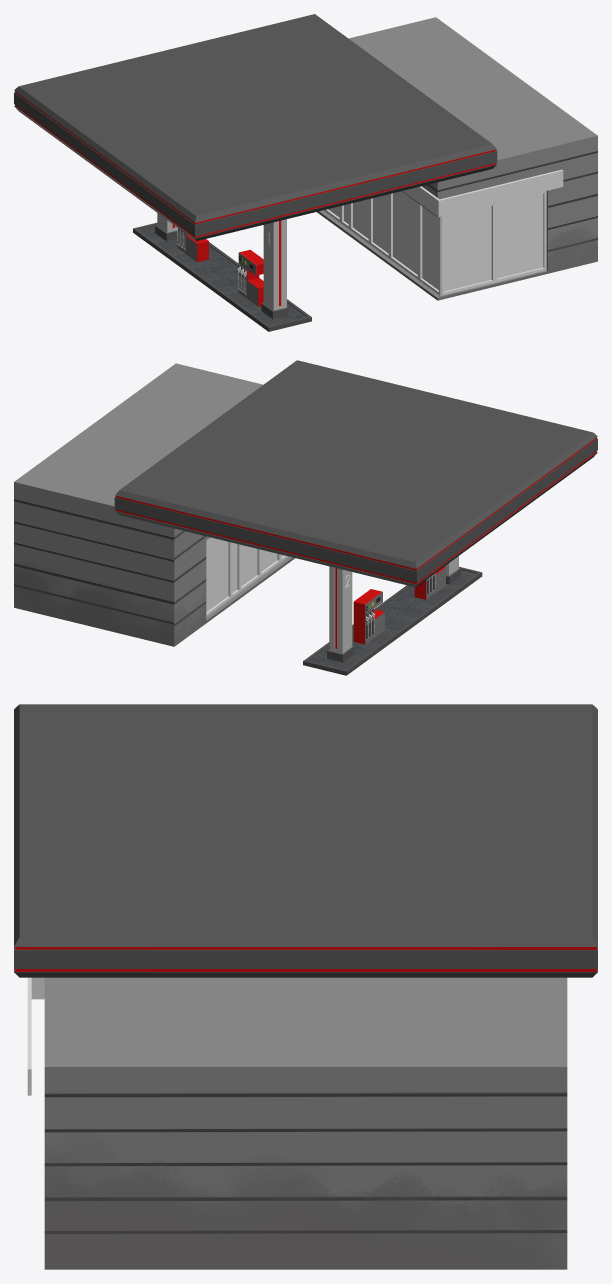
The model's file is stacja paliw.FBX.
The picture shows the model from 3 angles, top to bottom: view 1: azimuth 30°, elevation 25°; view 2: azimuth 150°, elevation 25°; view 3: azimuth 270°, elevation 25°; orthographic projection. The views are drawn at different scales.
Visible parts, largest first — view 1: sp_dach, sp_budynek, sp_okna, sp_wyspa001, sp_wywiska, sp_slup002, Box009, SP_kolonka002, Box008, SP_kolonka003, Box006, sp_slup003; view 2: sp_dach, sp_budynek, sp_wyspa001, sp_okna, sp_slup003, SP_kolonka003, Box007, SP_kolonka002, Box006; view 3: sp_dach, sp_budynek, sp_wywiska.
Part boxes in pixels (<box>): sp_dach: <box>14,14,497,241</box>; sp_budynek: <box>317,17,597,300</box>; sp_okna: <box>328,191,543,291</box>; sp_wyspa001: <box>133,222,311,331</box>; sp_wywiska: <box>403,169,563,217</box>; sp_slup002: <box>261,219,288,319</box>; Box009: <box>441,191,546,295</box>; SP_kolonka002: <box>238,249,263,306</box>; Box008: <box>390,193,441,295</box>; SP_kolonka003: <box>177,228,208,262</box>; Box006: <box>350,194,389,258</box>; sp_slup003: <box>155,213,177,241</box>; sp_dach: <box>114,360,597,587</box>; sp_budynek: <box>14,363,295,646</box>; sp_wyspa001: <box>303,566,482,675</box>; sp_okna: <box>206,537,283,611</box>; sp_slup003: <box>327,566,354,662</box>; SP_kolonka003: <box>353,589,384,644</box>; Box007: <box>206,542,240,616</box>; SP_kolonka002: <box>414,567,445,599</box>; Box006: <box>240,544,280,591</box>; sp_dach: <box>14,704,597,977</box>; sp_budynek: <box>44,977,567,1269</box>; sp_wywiska: <box>27,977,44,1095</box>.
Bounding box in the file's own units: 10289 × 3628 × 7826.
5 materials, 5 textured.
